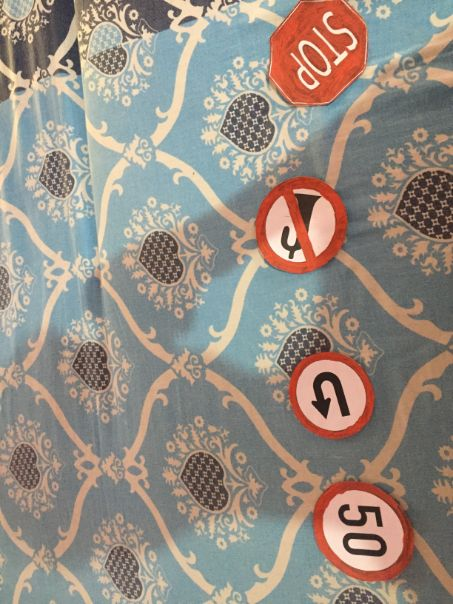no-horn: (257, 179, 347, 269)
speed-50: (312, 478, 417, 583)
stop: (266, 4, 365, 103)
u-turn: (289, 353, 374, 438)
